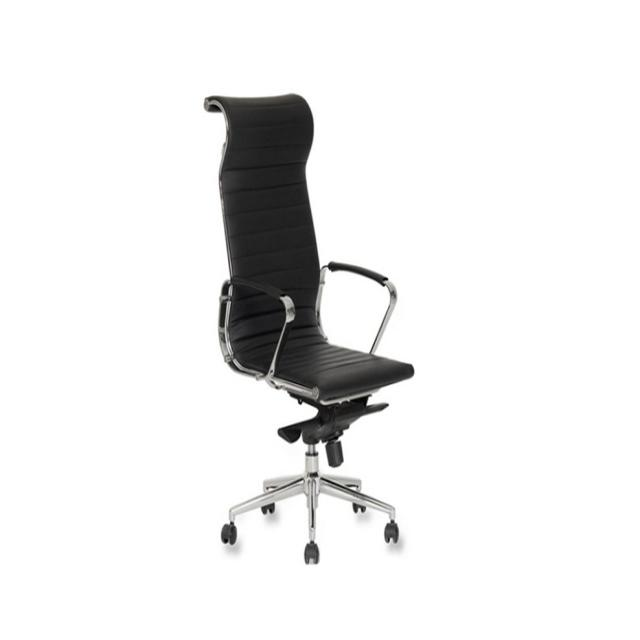chair: (202, 92, 414, 564)
